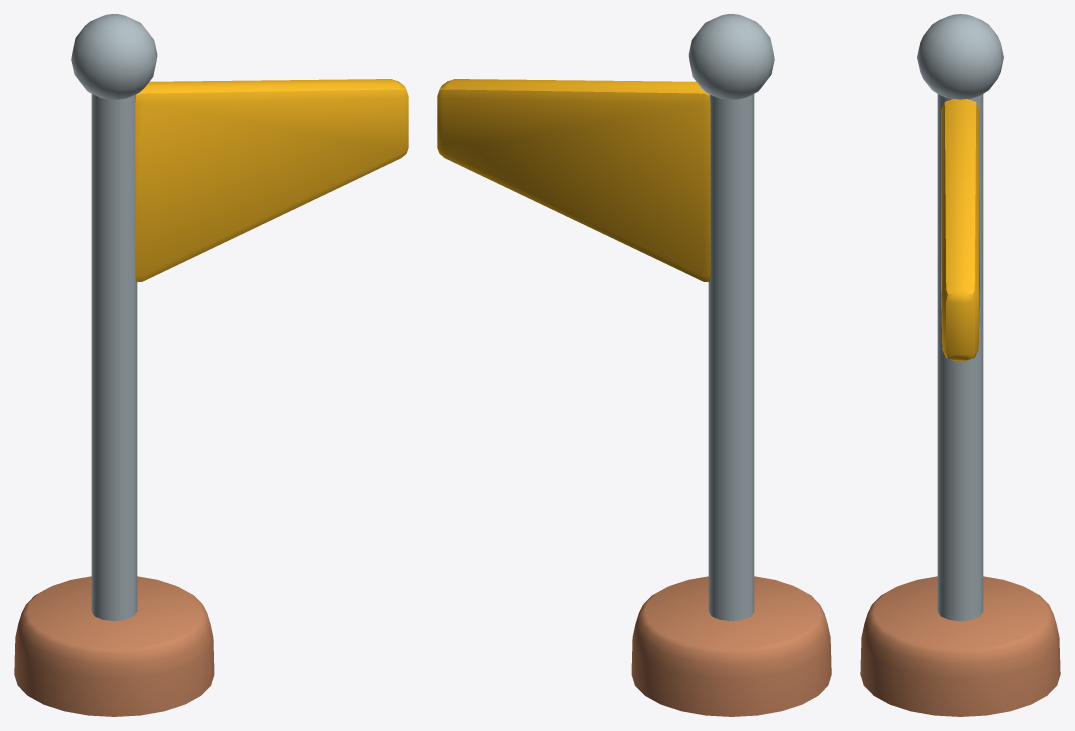
Rendered from flag_teamYellow.glb.
3 renders of one model, left to right at view 1: azimuth 30°, elevation 25°; view 2: azimuth 150°, elevation 25°; view 3: azimuth 270°, elevation 25°, orthographic.
Visible parts, largest first — view 1: flag_teamYellow; view 2: flag_teamYellow; view 3: flag_teamYellow.
Boxes of the visible parts, <box> form: flag_teamYellow: <box>14,14,408,716</box>; flag_teamYellow: <box>437,14,831,716</box>; flag_teamYellow: <box>860,14,1060,716</box>.
Bounding box in the file's own units: 0.4202 × 0.6998 × 0.1933.
